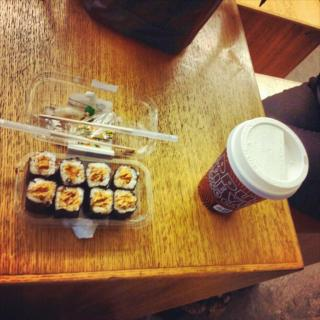Sushi: (25, 150, 142, 216), (27, 154, 63, 184)
